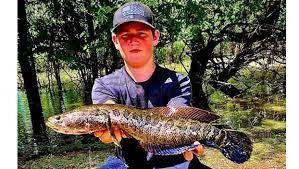Snakehead: (44, 99, 260, 169)
